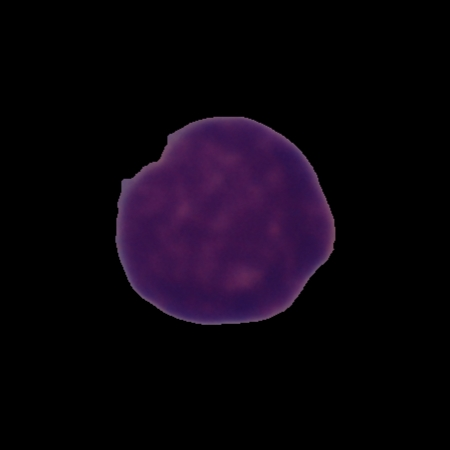ALL: (109, 112, 339, 327)
